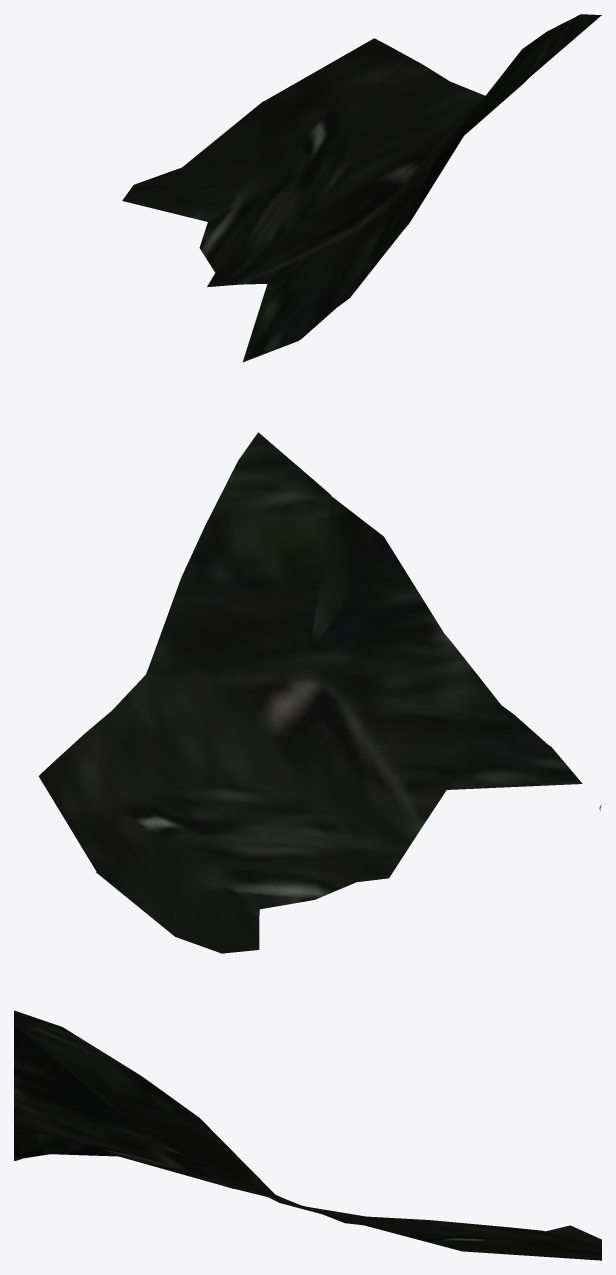
3 views of the same model, one above another, from view 1: azimuth 30°, elevation 25°; view 2: azimuth 150°, elevation 25°; view 3: azimuth 270°, elevation 25° (orthographic). The views are drawn at different scales.
Size of the model in its own units: 0.6992 by 0.5521 by 0.8374.
Materials: 2 (2 with a texture image).
